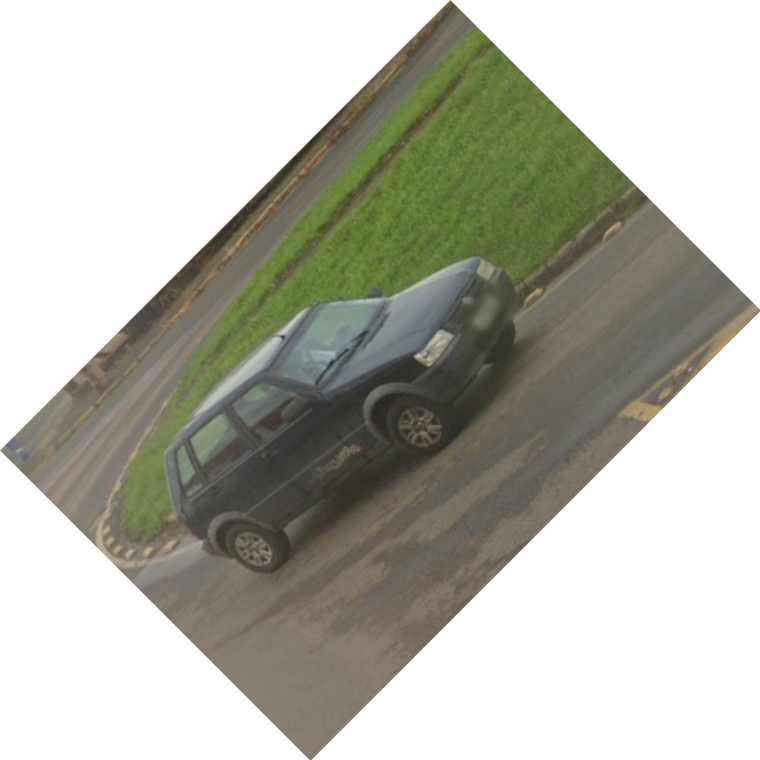car: (161, 255, 526, 579)
